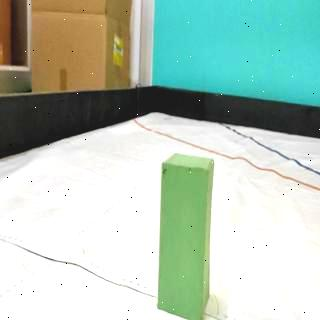greenbox: (156, 151, 214, 320)
